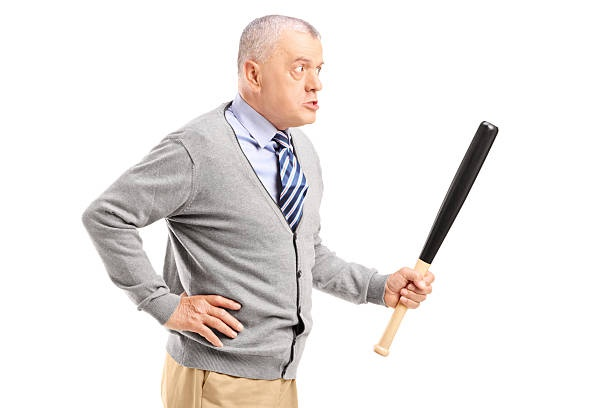bita: (373, 123, 501, 360)
